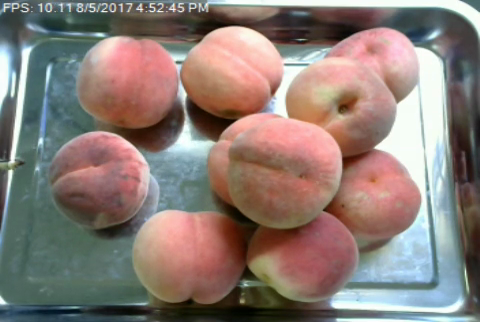Peach: (227, 117, 341, 229), (285, 57, 398, 156), (133, 211, 252, 303), (247, 210, 359, 304), (49, 130, 150, 229), (181, 24, 283, 118), (77, 36, 179, 128), (325, 145, 421, 242), (324, 27, 418, 102)
